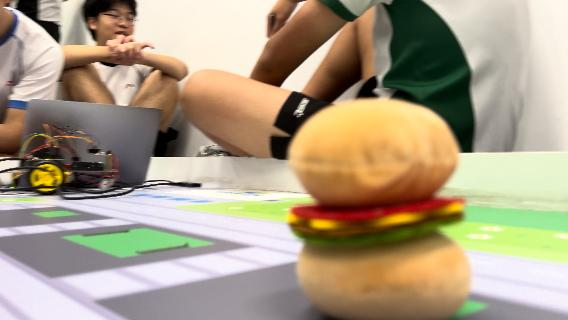burger: (288, 97, 474, 317)
